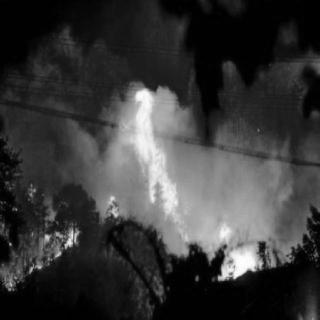Fire: (5, 197, 123, 286), (125, 75, 178, 228)
